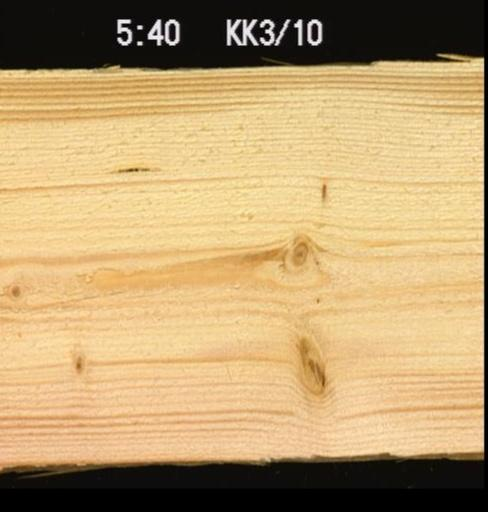small_knot: (73, 351, 86, 375), (9, 280, 21, 297), (319, 180, 326, 202)
sound_knot: (294, 328, 330, 395), (283, 236, 316, 269)
wave: (260, 450, 483, 460)
